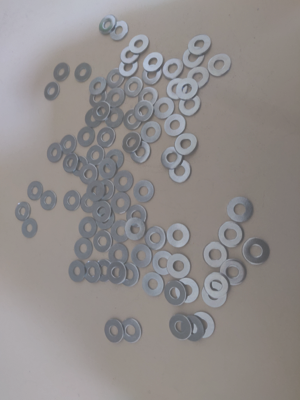circle: (242, 237, 271, 266), (219, 259, 247, 286), (218, 221, 245, 248), (227, 196, 254, 223), (203, 241, 229, 269), (202, 282, 229, 308), (169, 314, 194, 340), (167, 253, 192, 279), (204, 272, 230, 297), (191, 312, 215, 339), (168, 159, 193, 184), (175, 278, 199, 304), (207, 53, 233, 77), (181, 315, 204, 342), (164, 280, 188, 305), (167, 223, 191, 248), (182, 46, 207, 70), (164, 113, 188, 137), (186, 66, 211, 89), (152, 251, 175, 275), (133, 179, 156, 203), (161, 146, 185, 169), (178, 94, 202, 117), (121, 318, 143, 343), (142, 272, 164, 297), (125, 217, 147, 242), (118, 262, 140, 287), (110, 192, 133, 215), (107, 243, 130, 266), (105, 66, 128, 89), (110, 219, 132, 243), (175, 133, 199, 155), (165, 78, 189, 100), (188, 34, 213, 55), (131, 244, 153, 267), (145, 226, 167, 249), (92, 230, 114, 253), (128, 33, 151, 55), (153, 97, 175, 120), (131, 141, 153, 164), (162, 58, 185, 80), (177, 78, 200, 100), (107, 261, 128, 285), (105, 318, 125, 343), (94, 259, 114, 284), (118, 57, 140, 79), (103, 106, 125, 128), (105, 87, 127, 109), (127, 204, 148, 227), (73, 237, 94, 260), (113, 170, 134, 192), (79, 163, 100, 185), (141, 121, 162, 143), (123, 76, 144, 98), (138, 86, 160, 107), (143, 51, 165, 72), (142, 64, 163, 86), (62, 189, 82, 212), (105, 149, 125, 171), (98, 158, 118, 180), (86, 145, 106, 167), (68, 260, 87, 283), (83, 261, 102, 284), (79, 216, 98, 239), (122, 133, 143, 153), (124, 109, 144, 130), (87, 180, 106, 201), (93, 201, 112, 222), (59, 134, 78, 155), (110, 20, 129, 41), (120, 45, 141, 64), (97, 127, 116, 148), (85, 108, 104, 129), (90, 88, 109, 109), (39, 190, 57, 212), (71, 155, 89, 177), (99, 14, 117, 36), (81, 193, 100, 213), (93, 102, 112, 122), (89, 76, 108, 96), (21, 218, 39, 239), (74, 62, 92, 83), (62, 153, 80, 173), (15, 201, 32, 222), (47, 142, 64, 163), (27, 181, 44, 201), (43, 81, 60, 101), (78, 127, 95, 147), (53, 63, 70, 82)
